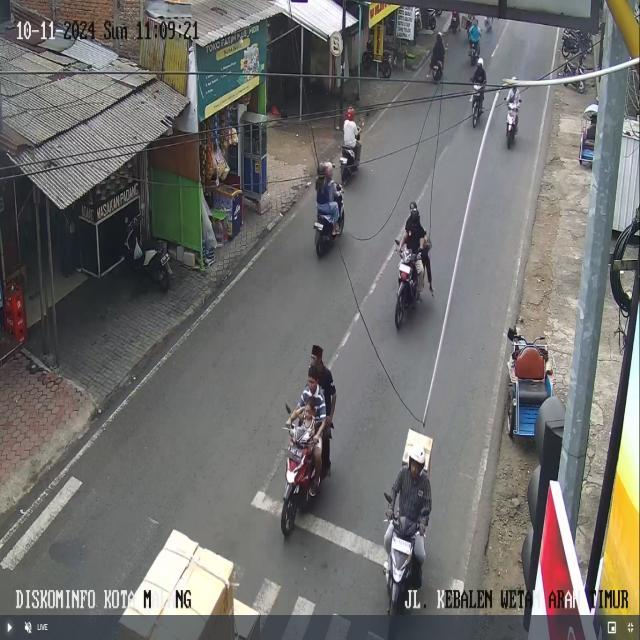Helmet: (409, 444, 425, 467), (318, 161, 332, 175), (409, 202, 418, 219), (345, 106, 354, 120), (409, 201, 417, 211), (477, 58, 483, 66), (437, 32, 443, 40), (511, 76, 516, 80)
Number Plate: (392, 536, 411, 554), (288, 447, 302, 462), (399, 263, 410, 273), (161, 254, 168, 265), (314, 222, 323, 230)
Rearview Mirror: (507, 327, 516, 341), (384, 492, 391, 503), (285, 403, 291, 414)
